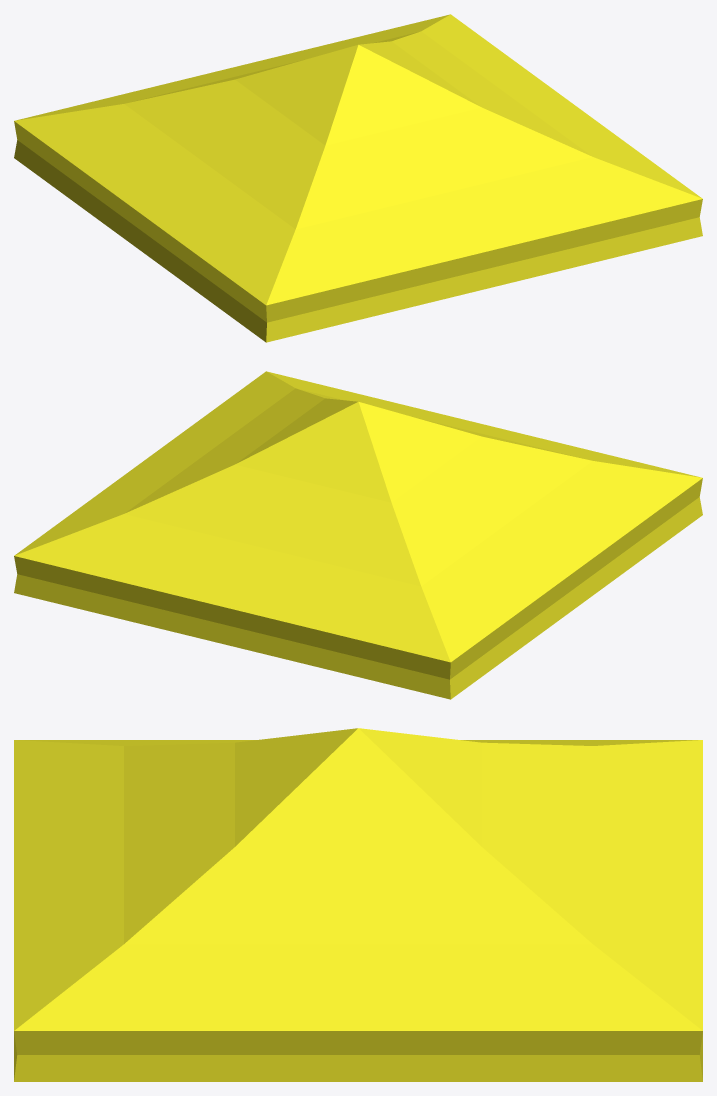
The model's file is Tent.fbx.
The picture shows the model from 3 angles, top to bottom: view 1: azimuth 30°, elevation 25°; view 2: azimuth 150°, elevation 25°; view 3: azimuth 270°, elevation 25°; orthographic projection. The views are drawn at different scales.
Visible parts, largest first — view 1: Tent_Geo; view 2: Tent_Geo; view 3: Tent_Geo.
Part boxes in pixels (x1,y1,x2,y2): Tent_Geo: (14, 14, 702, 342); Tent_Geo: (14, 371, 702, 699); Tent_Geo: (14, 728, 702, 1081).
Bounding box in the file's own units: 750 × 250 × 750.
